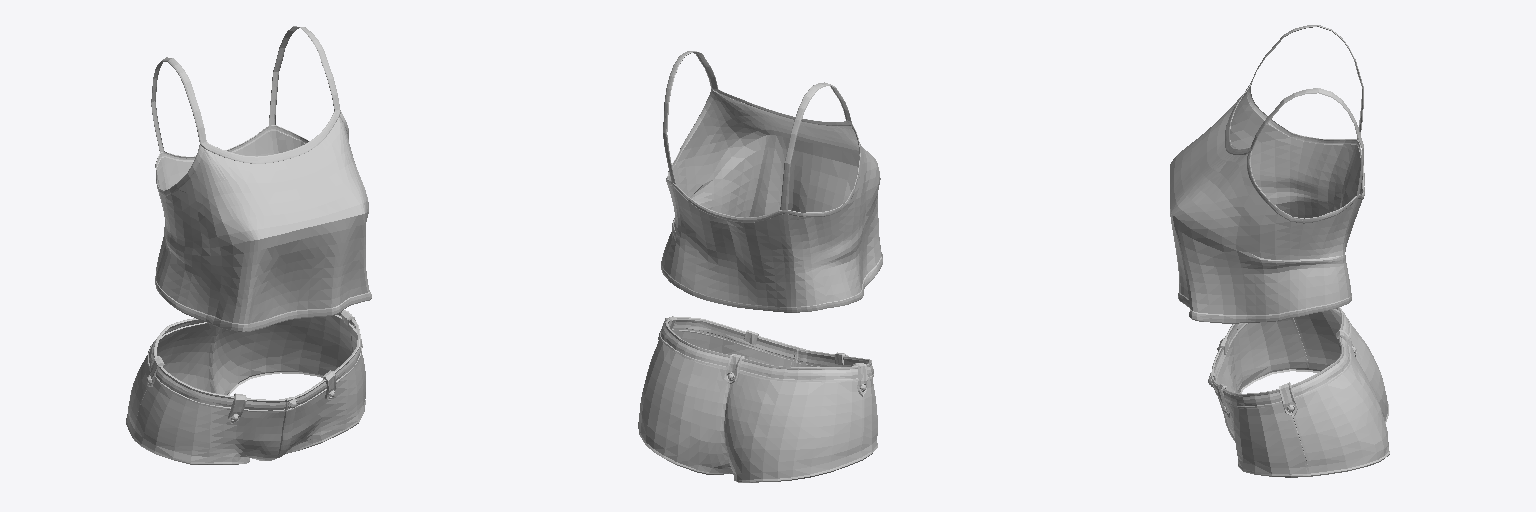
File: outfit2.obj
3 renders of one model, left to right at view 1: azimuth 30°, elevation 25°; view 2: azimuth 150°, elevation 25°; view 3: azimuth 270°, elevation 25°, orthographic.
Visible parts, largest first — view 1: o_all_tank_0_o_all_tank_0Mesh, o_zubon_00_0_o_zubon_00_0Mesh, o_all_tank_1_o_all_tank_1Mesh; view 2: o_all_tank_0_o_all_tank_0Mesh, o_zubon_00_0_o_zubon_00_0Mesh, o_all_tank_1_o_all_tank_1Mesh; view 3: o_all_tank_0_o_all_tank_0Mesh, o_zubon_00_0_o_zubon_00_0Mesh, o_all_tank_1_o_all_tank_1Mesh.
Part boxes in pixels (x1,y1,x2,y2): o_all_tank_0_o_all_tank_0Mesh: (156, 117, 369, 323); o_zubon_00_0_o_zubon_00_0Mesh: (126, 310, 365, 464); o_all_tank_1_o_all_tank_1Mesh: (151, 26, 371, 331); o_all_tank_0_o_all_tank_0Mesh: (662, 93, 881, 306); o_zubon_00_0_o_zubon_00_0Mesh: (638, 316, 877, 482); o_all_tank_1_o_all_tank_1Mesh: (661, 51, 882, 312); o_all_tank_0_o_all_tank_0Mesh: (1170, 92, 1362, 314); o_zubon_00_0_o_zubon_00_0Mesh: (1208, 307, 1389, 477); o_all_tank_1_o_all_tank_1Mesh: (1178, 25, 1364, 323).
Bounding box in the file's own units: 3.67 × 6.36 × 3.19.